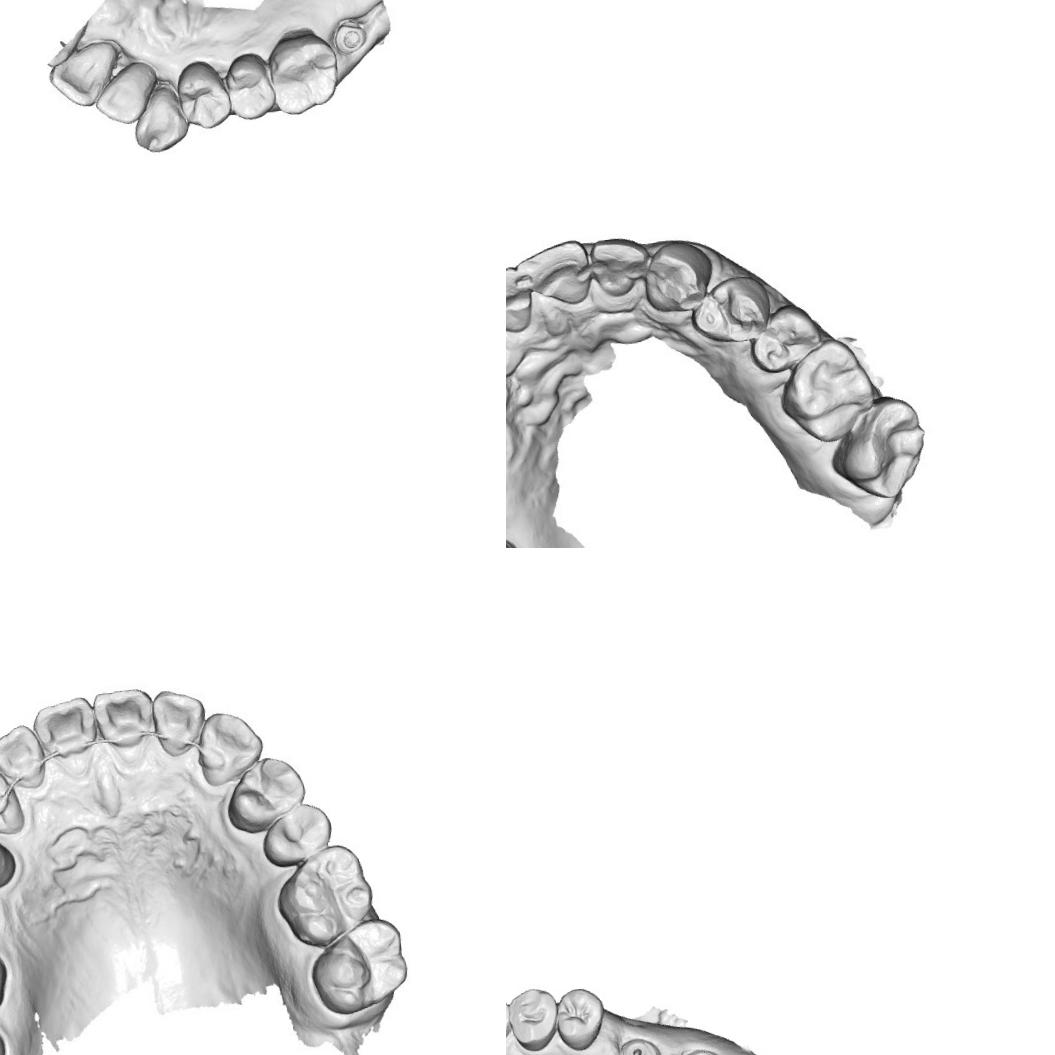canine: (642, 238, 714, 323), (194, 708, 268, 789), (128, 84, 191, 156), (0, 760, 26, 840)
implant: (330, 17, 370, 57), (613, 1033, 664, 1055), (676, 1044, 728, 1055)
incisor: (592, 226, 664, 305), (519, 236, 594, 310), (29, 695, 100, 762), (148, 685, 210, 760), (45, 45, 115, 110), (92, 686, 158, 754), (93, 66, 156, 126), (0, 721, 48, 792), (506, 265, 534, 339)
molar: (272, 841, 377, 950), (306, 914, 412, 1018), (835, 398, 935, 507), (782, 338, 874, 440), (262, 24, 344, 120)
premolar: (222, 753, 308, 837), (693, 272, 775, 351), (747, 302, 829, 376), (258, 800, 336, 869), (172, 57, 234, 134), (222, 49, 279, 125), (552, 983, 610, 1053), (506, 984, 563, 1055), (0, 816, 19, 897)
